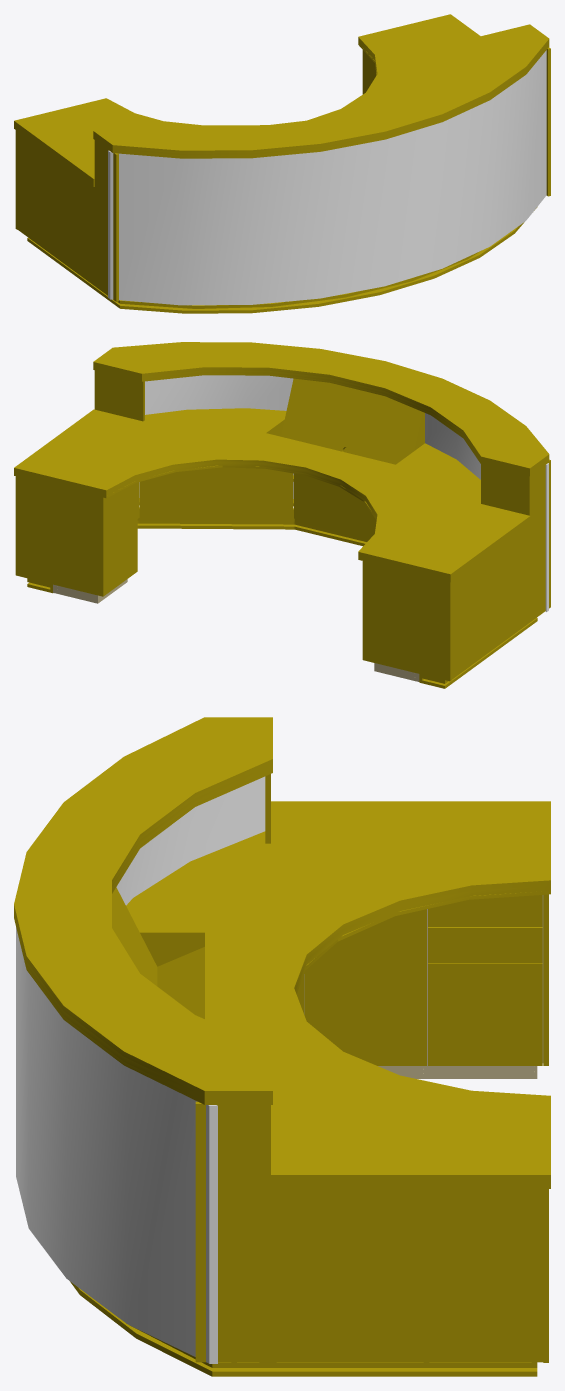
File: reception_desk.glb
The picture shows the model from 3 angles, top to bottom: view 1: azimuth 30°, elevation 25°; view 2: azimuth 150°, elevation 25°; view 3: azimuth 270°, elevation 25°; orthographic projection. The views are drawn at different scales.
Visible parts, largest first — view 1: Object_6, Object_506, Object_488, Object_510, Object_512, Object_501, Object_508, Object_498, Object_433, Object_445, Object_443, Object_453 (+4 smaller); view 2: Object_488, Object_506, Object_237, Object_239, Object_478, Object_510, Object_616, Object_16, Object_449, Object_30, Object_512, Object_622 (+15 smaller); view 3: Object_488, Object_451, Object_6, Object_506, Object_453, Object_35, Object_21, Object_11, Object_23, Object_25, Object_612, Object_8 (+16 smaller).
Boxes of the visible parts, x1,y1,x2,y2 form: Object_6: (110,50,546,305); Object_506: (93,24,549,150); Object_488: (14,14,480,181); Object_510: (17,131,94,285); Object_512: (94,140,118,301); Object_501: (112,42,549,156); Object_508: (112,39,549,153); Object_498: (112,45,549,158); Object_433: (120,232,510,308); Object_445: (120,292,379,313); Object_443: (105,290,379,310); Object_453: (546,47,550,196); Object_488: (14,408,530,577); Object_506: (93,342,549,471); Object_237: (362,561,451,681); Object_239: (15,476,104,596); Object_478: (281,378,423,464); Object_510: (452,525,529,679); Object_616: (140,467,293,518); Object_16: (145,375,293,414); Object_449: (294,473,376,537); Object_30: (105,482,137,594); Object_512: (526,459,550,622); Object_622: (97,371,144,421); Object_488: (126,801,550,1180); Object_451: (271,1189,543,1362); Object_6: (16,927,209,1363); Object_506: (14,717,272,1096); Object_453: (195,1101,270,1362); Object_35: (304,909,426,1065); Object_21: (428,963,542,1065); Object_11: (116,776,265,905); Object_23: (428,927,542,962); Object_25: (428,895,542,926); Object_612: (265,1368,537,1376); Object_8: (208,1105,217,1363).
Size of the model in its own units: 115 by 42 by 69.53.
